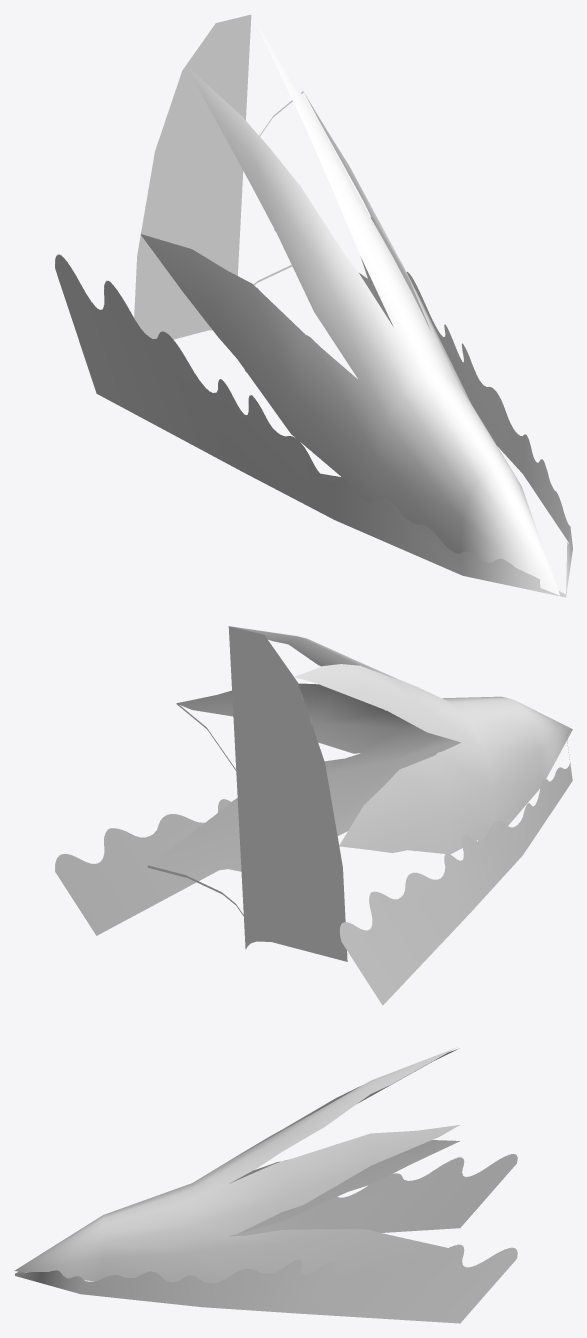
File: Shockwave1.FBX
The picture shows the model from 3 angles, top to bottom: view 1: azimuth 30°, elevation 25°; view 2: azimuth 150°, elevation 25°; view 3: azimuth 270°, elevation 25°; orthographic projection. The views are drawn at different scales.
Visible parts, largest first — view 1: Cylinder001, ShockwaveSide; view 2: Cylinder001, ShockwaveSide; view 3: Cylinder001, ShockwaveSide.
Boxes of the visible parts, box(x1,y1,x2,y2) form: Cylinder001: box(134, 14, 559, 595); ShockwaveSide: box(55, 217, 572, 597); Cylinder001: box(147, 626, 572, 961); ShockwaveSide: box(55, 735, 572, 1005); Cylinder001: box(14, 1047, 459, 1283); ShockwaveSide: box(15, 1154, 517, 1323).
Size of the model in its own units: 30.11 by 34.36 by 74.6.
2 materials, 2 textured.
